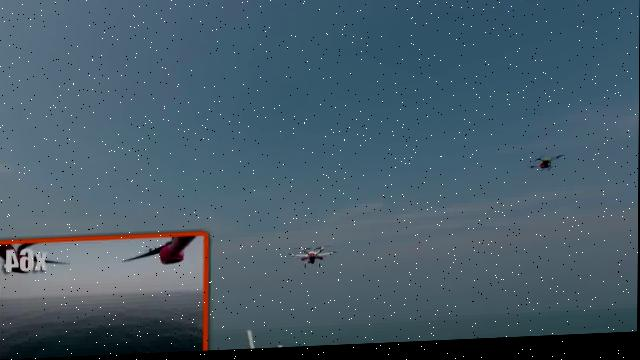drone: (521, 149, 577, 191)
